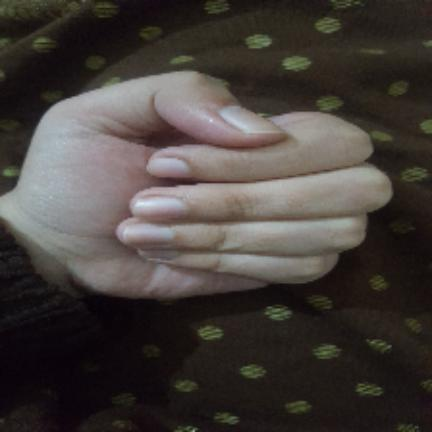Nail: (219, 105, 284, 134), (131, 197, 187, 219), (121, 224, 173, 244), (147, 158, 190, 178), (139, 251, 180, 259)
